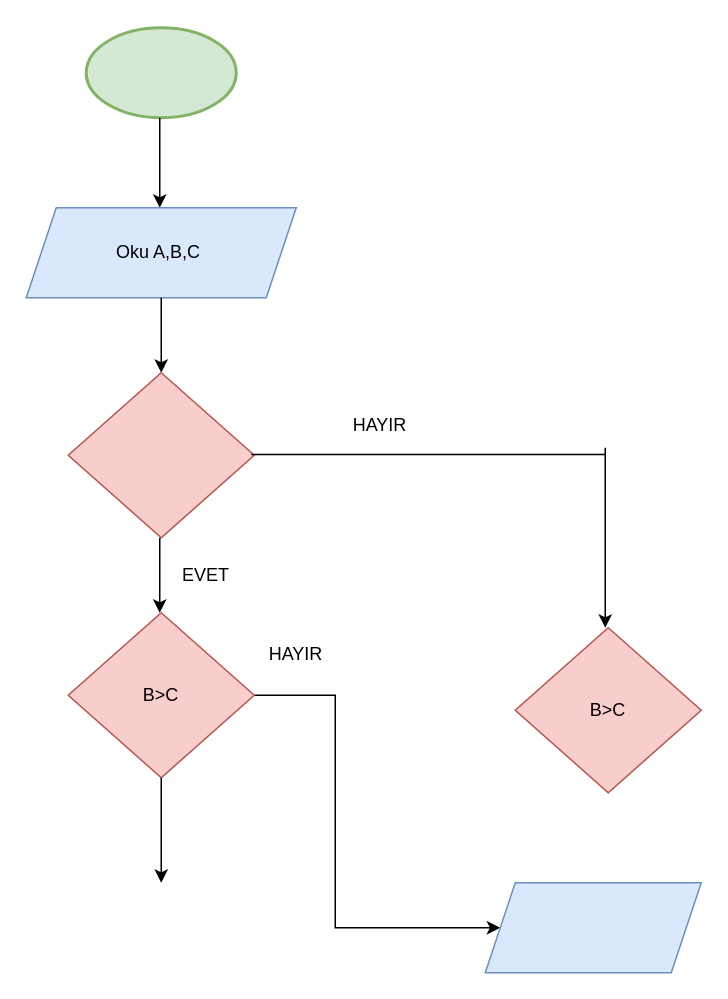
Image size: 728x999. Some labels were removed from this diagram. Here are the shapes that lost their labels. From the top down, the centre of each, then its label:
At point (160, 72): "BAŞLA.".
At point (160, 454): "A>B".
